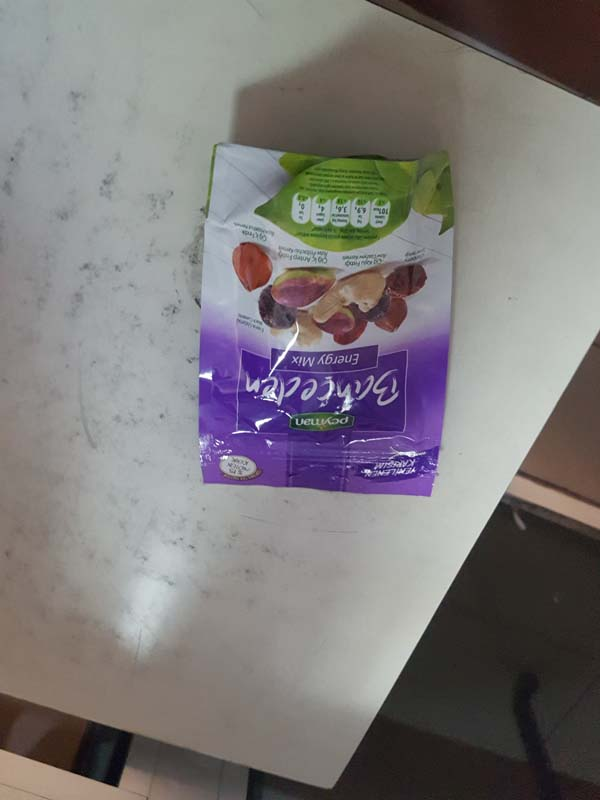bahcedenenergymix: (190, 135, 460, 499)
